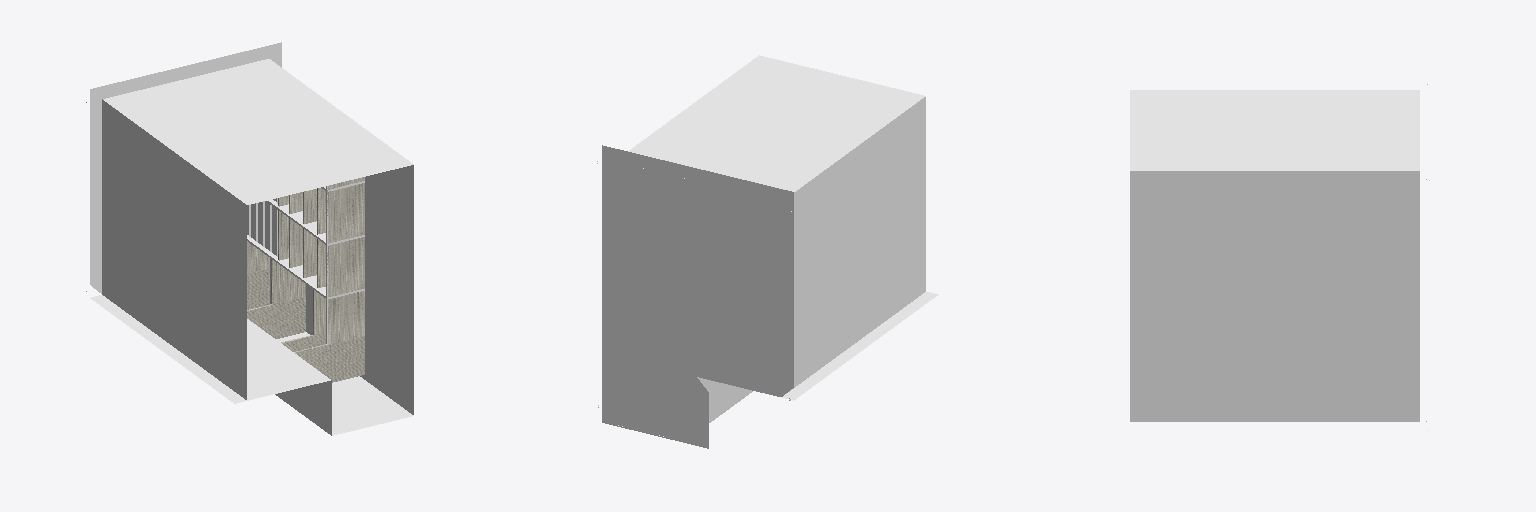
3 renders of one model, left to right at view 1: azimuth 30°, elevation 25°; view 2: azimuth 150°, elevation 25°; view 3: azimuth 270°, elevation 25°, orthographic.
Visible parts, largest first — view 1: Object_312, Object_313, Object_314, Object_317, Object_315, Object_319, Object_325, Object_262, Object_173, Object_86, Object_318, Object_291 (+8 smaller); view 2: Object_311, Object_312, Object_313, Object_321, Object_325, Object_319, Object_318, Object_323, Object_316, Object_327; view 3: Object_314, Object_313.
Part boxes in pixels (left/top/right/bottom): Object_312: left=102, top=99, right=246, bottom=399; Object_313: left=103, top=59, right=413, bottom=204; Object_314: left=360, top=165, right=413, bottom=414; Object_317: left=247, top=319, right=330, bottom=400; Object_315: left=332, top=376, right=413, bottom=435; Object_319: left=90, top=42, right=281, bottom=98; Object_325: left=90, top=90, right=101, bottom=293; Object_262: left=295, top=336, right=364, bottom=382; Object_173: left=328, top=237, right=364, bottom=296; Object_86: left=328, top=183, right=364, bottom=243; Object_318: left=90, top=295, right=246, bottom=403; Object_291: left=247, top=297, right=305, bottom=338; Object_311: left=614, top=161, right=780, bottom=432; Object_312: left=786, top=97, right=925, bottom=393; Object_313: left=628, top=55, right=925, bottom=191; Object_321: left=602, top=146, right=613, bottom=421; Object_325: left=781, top=192, right=793, bottom=396; Object_319: left=602, top=145, right=792, bottom=201; Object_318: left=781, top=292, right=938, bottom=400; Object_323: left=602, top=413, right=708, bottom=448; Object_316: left=697, top=377, right=752, bottom=422; Object_327: left=697, top=378, right=708, bottom=447; Object_314: left=1130, top=171, right=1419, bottom=421; Object_313: left=1130, top=90, right=1419, bottom=170.
Bounding box in the file's own units: 3110 × 4225 × 4125.
Materials: 10 (1 with a texture image).